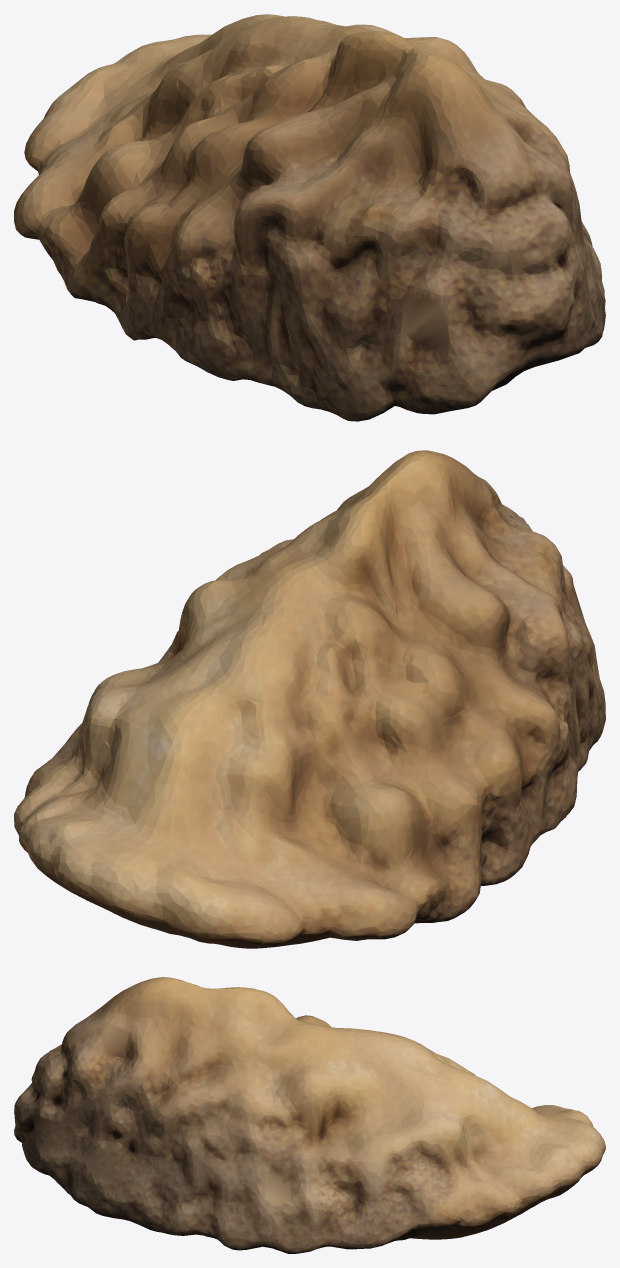
The picture shows the model from 3 angles, top to bottom: view 1: azimuth 30°, elevation 25°; view 2: azimuth 150°, elevation 25°; view 3: azimuth 270°, elevation 25°; orthographic projection. The views are drawn at different scales.
Parts seen in each view (by area): view 1: geometry_0; view 2: geometry_0; view 3: geometry_0.
Boxes of the visible parts, bbox=[...] form: geometry_0: bbox=[14, 14, 605, 421]; geometry_0: bbox=[14, 450, 605, 948]; geometry_0: bbox=[14, 977, 605, 1253].
Size of the model in its own units: 0.5906 by 0.4604 by 1.
3 materials, 2 textured.
